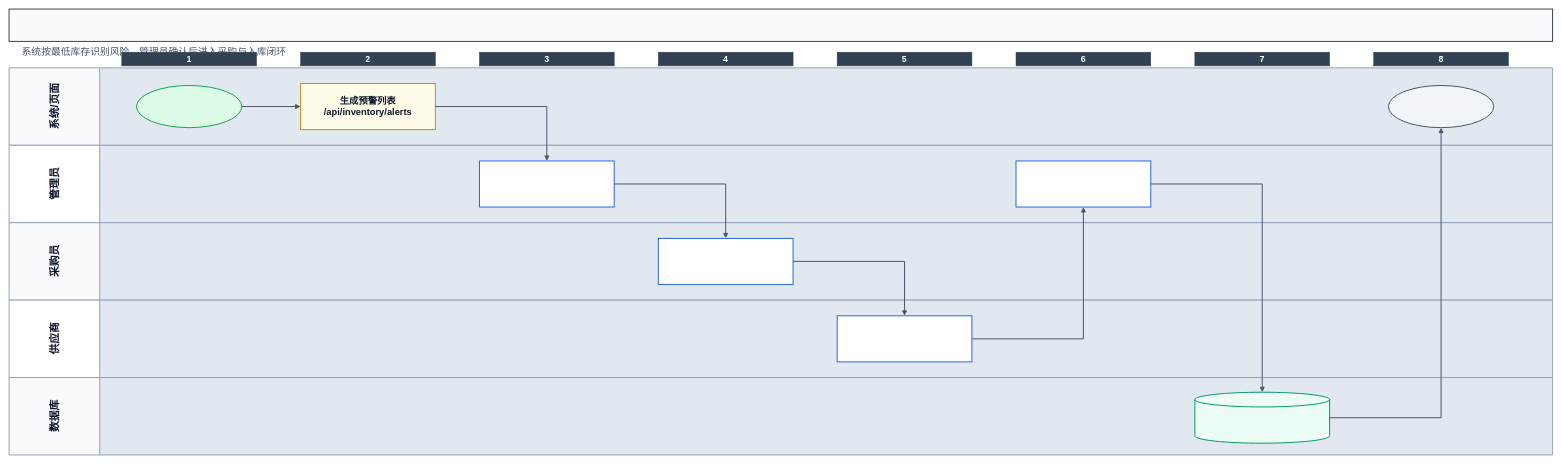
The diagram is 1561 pixels wide and 464 high, and some of its shapes have lost their labels. Each missing label, with the centre of its shape:
发起补货联系 供应商/数量: the point at 725,261
库存预警与补货泳道图: the point at 780,25
更新库存流水 inventory_logs: in: the point at 1262,417
登记入库结果 数量/单据: the point at 1083,183
确认供货计划 到货时间: the point at 904,338
确认补货优先级 热销/缺货风险: the point at 546,183
读取库存指标 quantity <= min_stock: the point at 189,106
预警解除 库存恢复正常: the point at 1441,106
